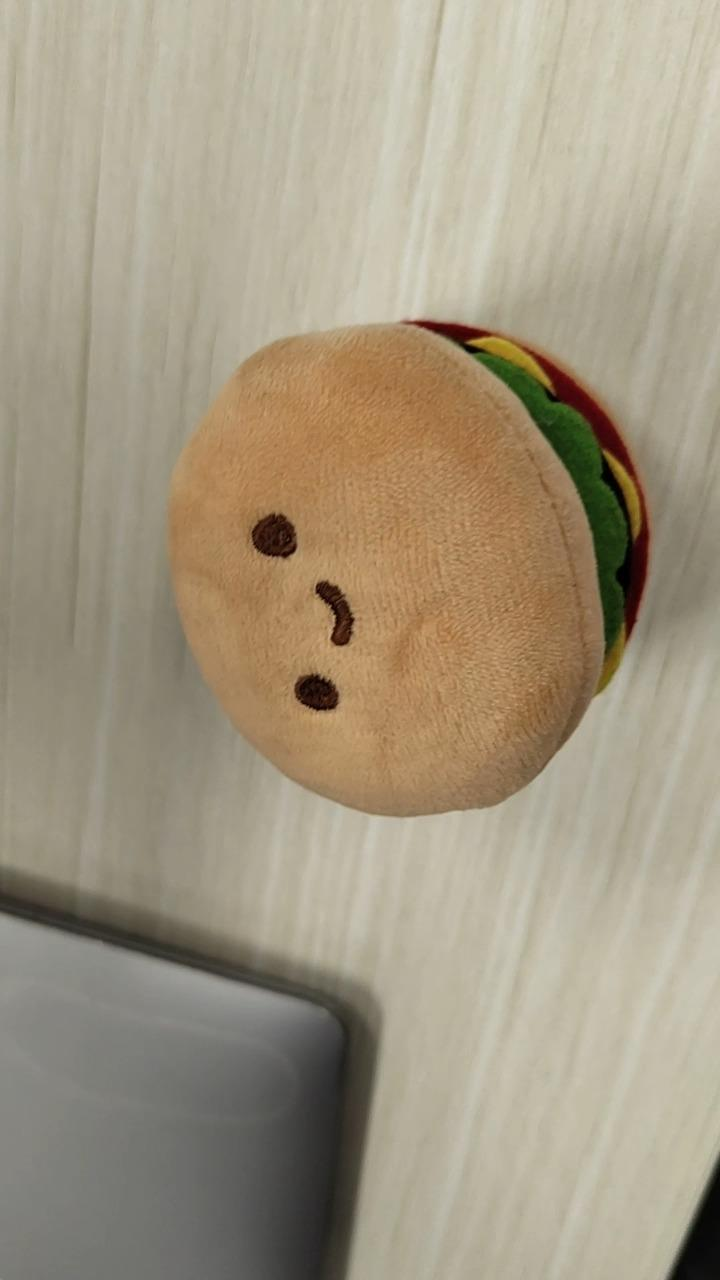hamburger: (165, 316, 651, 818)
